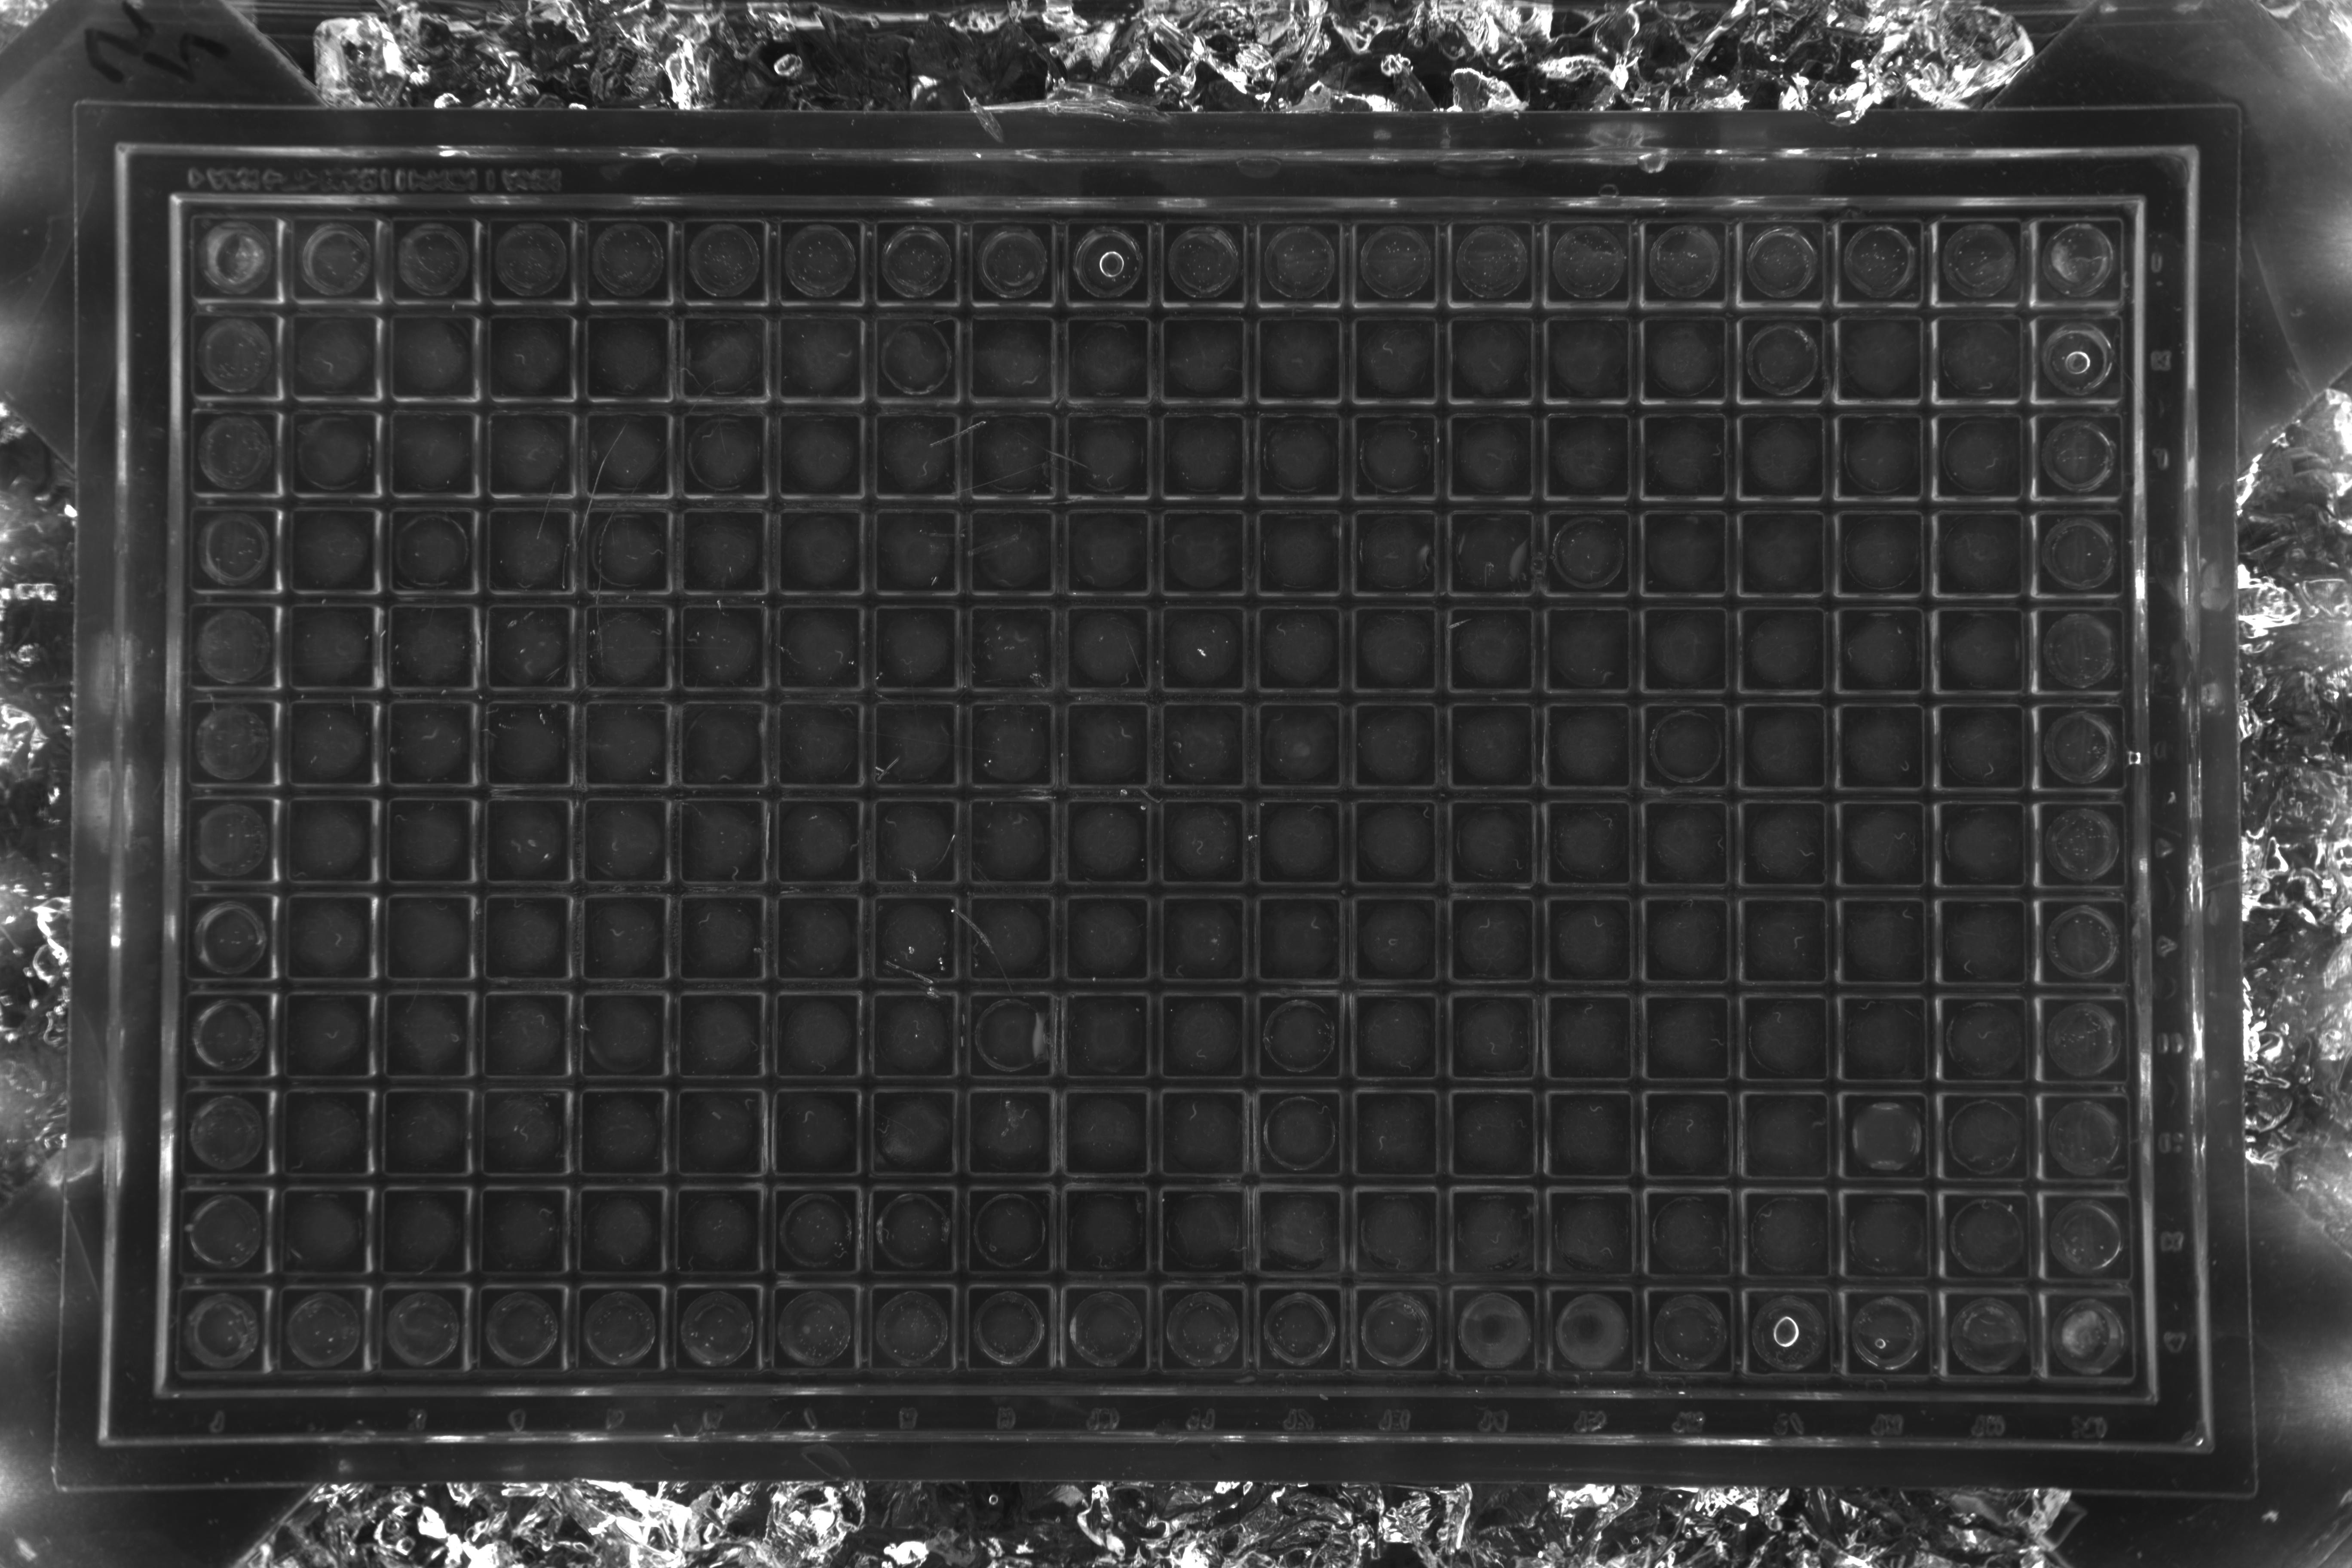WM_well: (395, 945, 485, 1032), (691, 751, 780, 838), (789, 364, 878, 451), (199, 945, 287, 1032), (595, 266, 682, 353), (693, 558, 780, 646), (789, 849, 877, 936), (789, 752, 877, 840), (887, 462, 975, 549), (983, 464, 1071, 551), (1078, 1239, 1165, 1326), (1080, 269, 1167, 357), (1274, 850, 1361, 938), (1372, 1144, 1459, 1232), (1465, 367, 1552, 455), (1466, 850, 1554, 938), (1564, 850, 1652, 938), (1566, 948, 1654, 1036), (1566, 1048, 1654, 1136), (1760, 560, 1848, 647), (1760, 754, 1848, 842), (1764, 1050, 1851, 1137), (1857, 268, 1944, 355), (1858, 560, 1946, 647)
